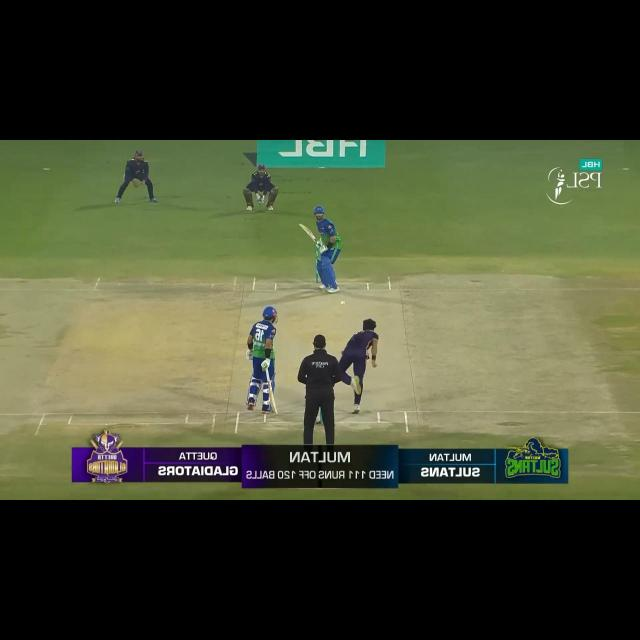bat: (300, 222, 318, 242), (267, 382, 278, 414)
toe: (270, 405, 278, 413), (299, 223, 307, 230)
